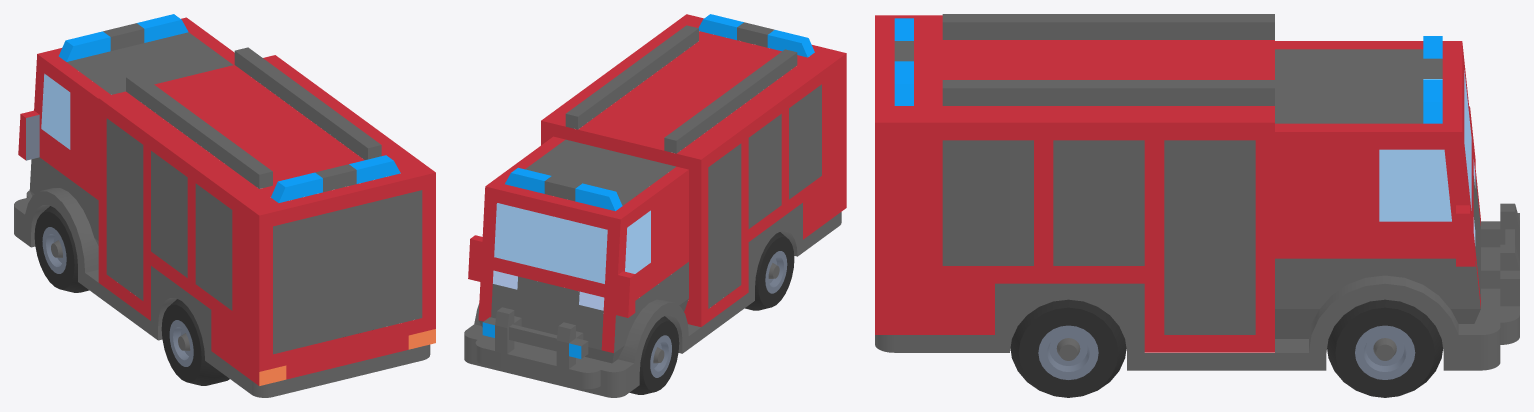
The model's file is firetruck.glb.
3 renders of one model, left to right at view 1: azimuth 30°, elevation 25°; view 2: azimuth 150°, elevation 25°; view 3: azimuth 270°, elevation 25°, orthographic. The views are drawn at different scales.
Visible parts, largest first — view 1: body, wheel_backLeft, wheel_frontLeft; view 2: body, grill, wheel_frontLeft, wheel_backLeft; view 3: body, wheel_backRight, wheel_frontRight, grill.
Part boxes in pixels (left/top/right/bottom): body: left=14, top=14, right=435, bottom=397; wheel_backLeft: left=161, top=299, right=229, bottom=385; wheel_frontLeft: left=34, top=206, right=89, bottom=292; body: left=464, top=14, right=846, bottom=397; grill: left=475, top=307, right=600, bottom=388; wheel_frontLeft: left=629, top=316, right=679, bottom=394; wheel_backLeft: left=745, top=232, right=794, bottom=310; body: left=875, top=14, right=1500, bottom=370; wheel_backRight: left=1010, top=299, right=1126, bottom=397; wheel_frontRight: left=1327, top=299, right=1442, bottom=397; grill: left=1481, top=203, right=1519, bottom=344.
Size of the model in its own units: 1.3 by 1.7 by 3.3.
